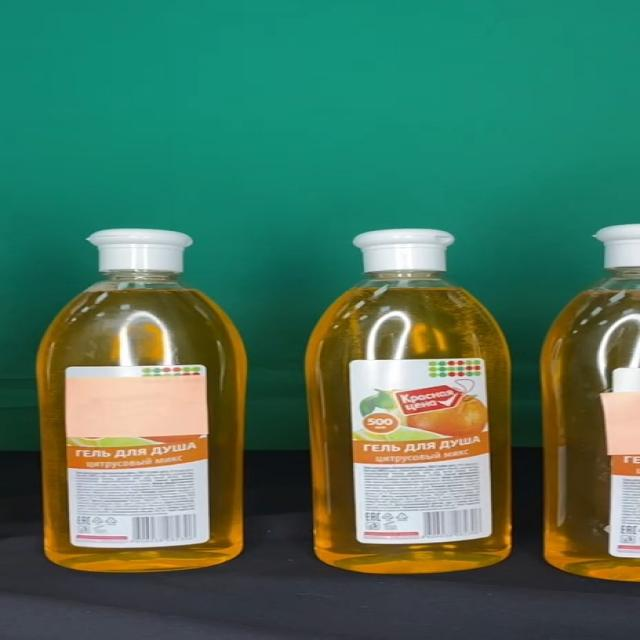Bottle: (304, 228, 512, 574), (36, 230, 246, 572)
Cap: (88, 230, 193, 273), (351, 228, 454, 270)
